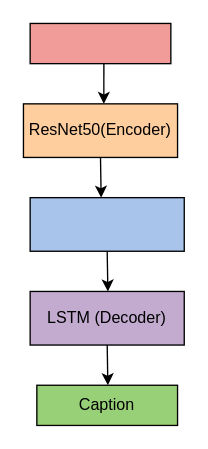
Image size: 208x449. Some labels were removed from this diagram. The box of each missing label's shape, as (x1, y1, x2, y2) in pixels:
Feature Vector: (29, 196, 184, 251)
Image: (29, 22, 171, 64)
